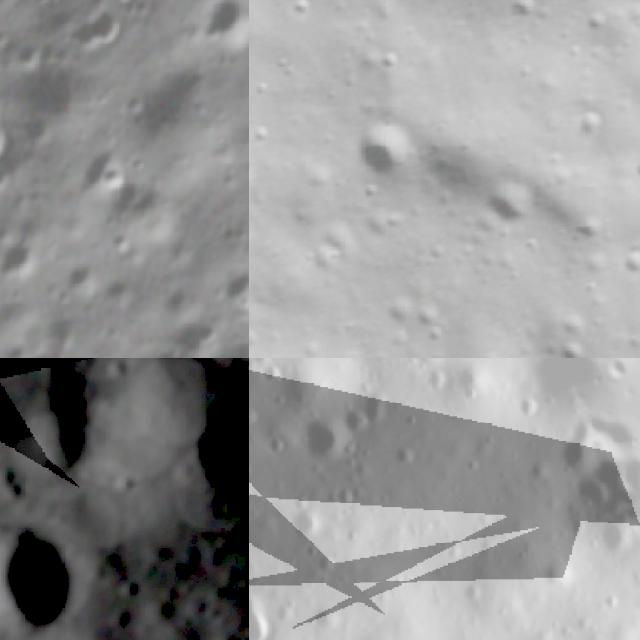crater: (144, 372, 249, 537), (0, 505, 94, 640), (8, 384, 112, 483), (343, 110, 436, 198), (277, 395, 365, 487), (53, 0, 137, 67), (503, 358, 578, 426), (530, 415, 603, 484), (475, 172, 544, 244), (572, 509, 640, 576), (182, 0, 249, 66), (266, 490, 332, 552), (49, 245, 112, 308), (202, 251, 249, 329), (249, 564, 292, 640), (0, 228, 50, 293), (249, 137, 281, 223), (605, 136, 640, 207), (86, 155, 132, 203), (532, 554, 579, 600), (0, 99, 21, 175), (412, 358, 452, 395), (544, 328, 591, 358), (382, 438, 418, 476)
